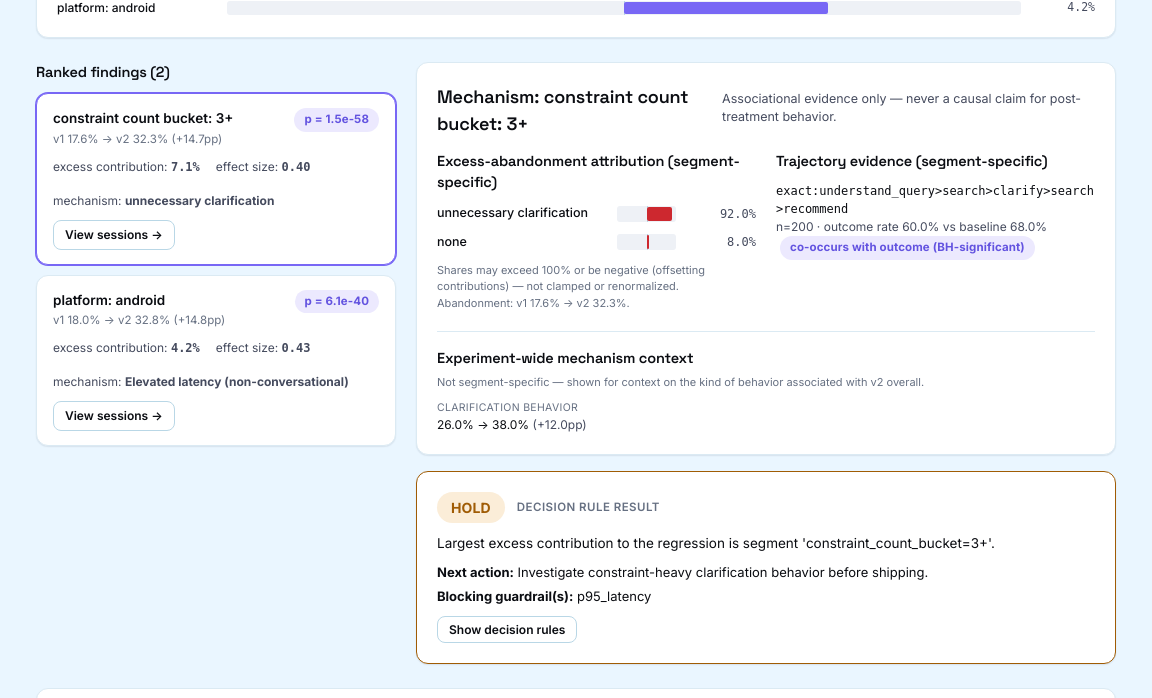
Test case: Investigation page › selecting a finding updates the mechanism panel
(page scrolled)
Click the button "platform: android": (109,300) [36,275,396,446]
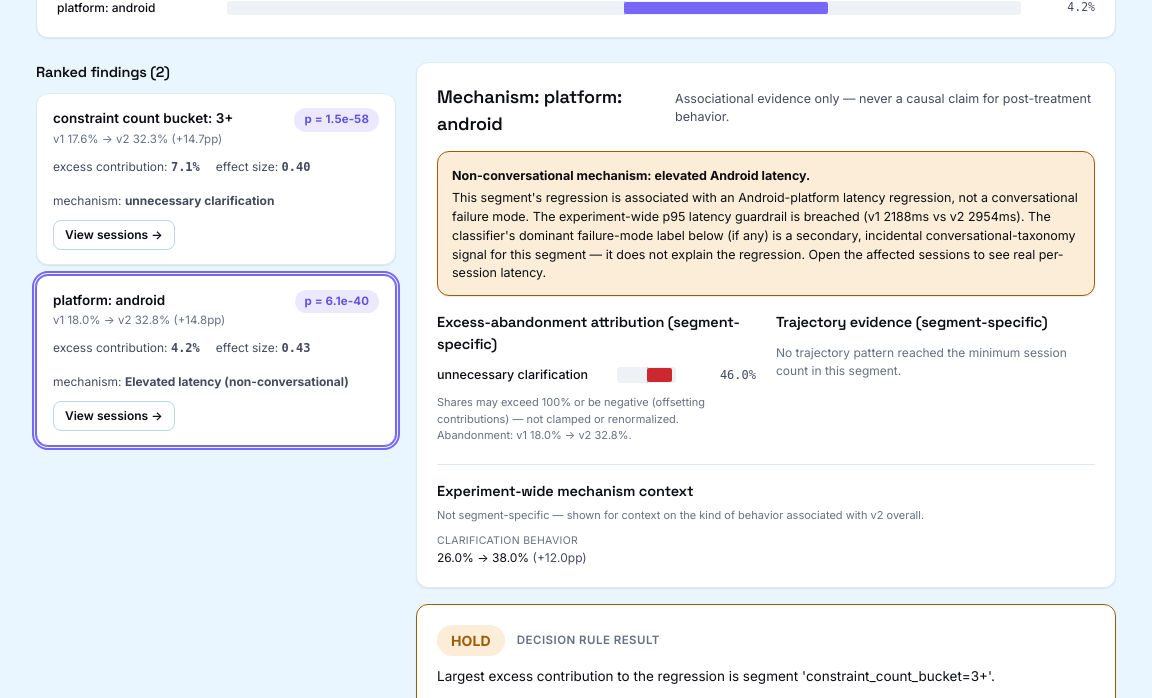
Expected: the heading "Mechanism: platform: android" is shown, [437,85,622,135]
Expected: the text "Non-conversational mechanism: elevated Android latency." is shown, [452,168,810,183]
